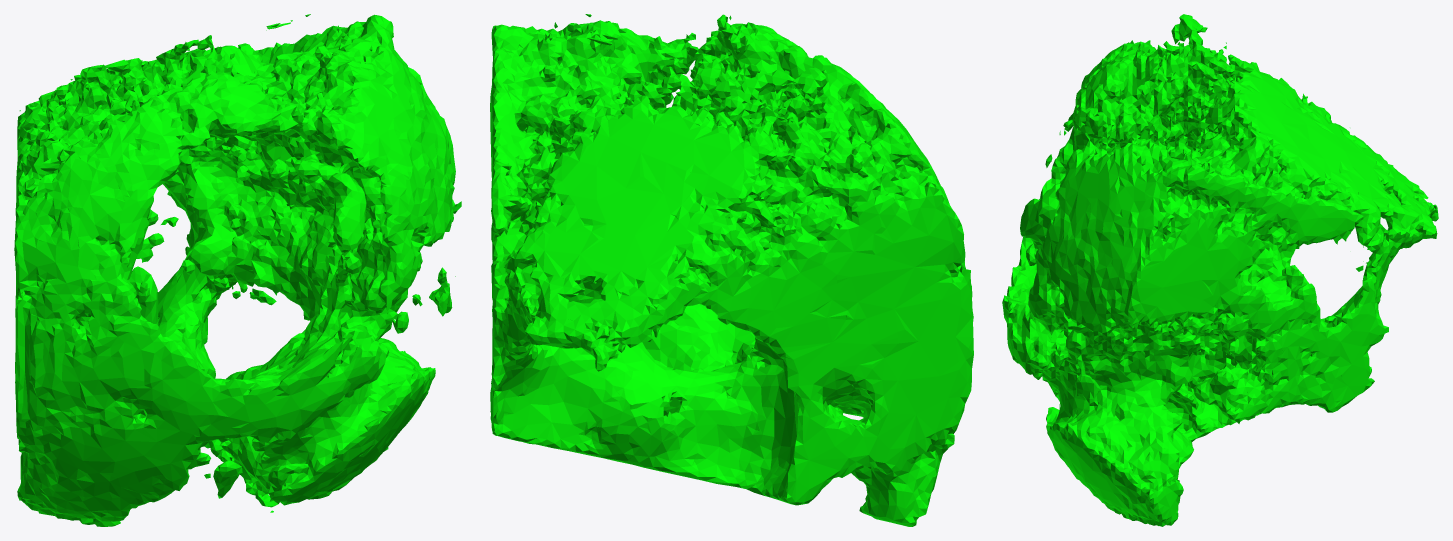
The model's file is B939XXXX-1_base_34.obj.
3 renders of one model, left to right at view 1: azimuth 30°, elevation 25°; view 2: azimuth 150°, elevation 25°; view 3: azimuth 270°, elevation 25°, orthographic. The views are drawn at different scales.
Parts seen in each view (by area): view 1: 34_base; view 2: 34_base; view 3: 34_base.
Part boxes in pixels (x1=…): 34_base: x1=14, y1=14, x2=461, y2=526; 34_base: x1=490, y1=14, x2=973, y2=526; 34_base: x1=1002, y1=14, x2=1438, y2=526.
Size of the model in its own units: 219 by 216 by 204.
